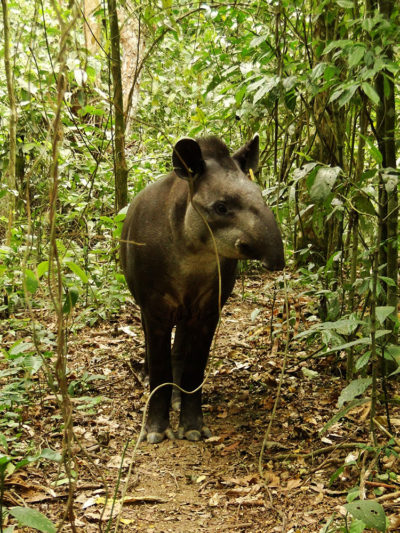Anta: (117, 119, 291, 448)
